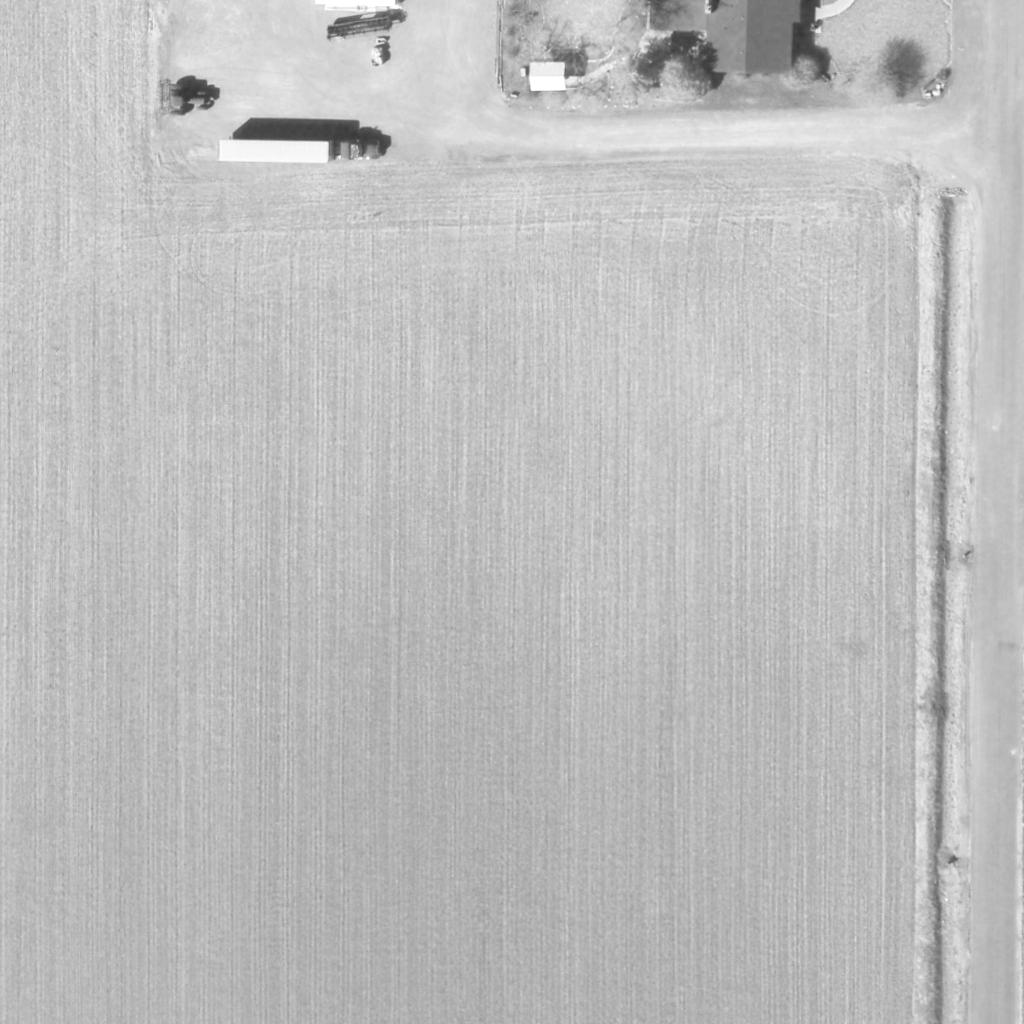vehicle: (216, 139, 382, 165), (168, 85, 212, 115)
